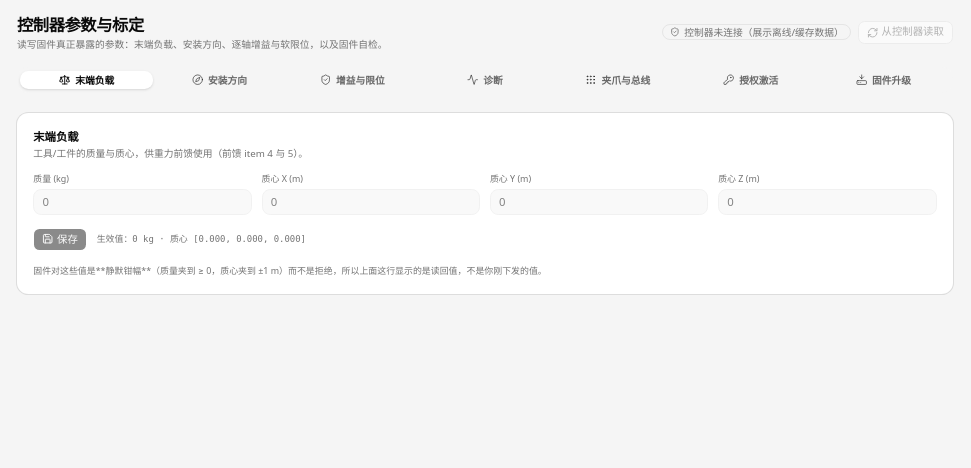
Test: SettingsPage axis scaling › says nothing has been read yet while disconnected
Press the mouse on the tab "增益与限位" at (352, 80), box x1=286 y1=71 x2=419 y2=90
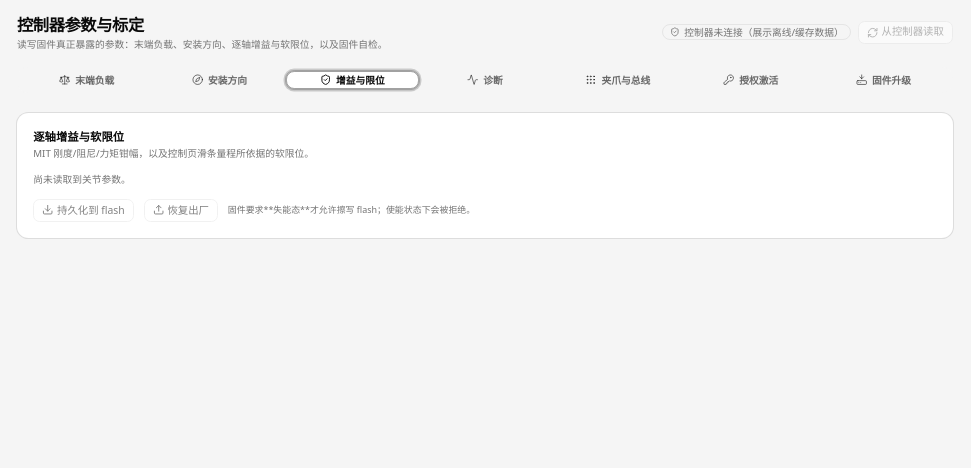
Expected: the text "尚未读取到关节参数。" is shown, x1=33 y1=173 x2=131 y2=186
Press the mouse on the tab "安装方向" at (219, 80), box x1=153 y1=71 x2=286 y2=90
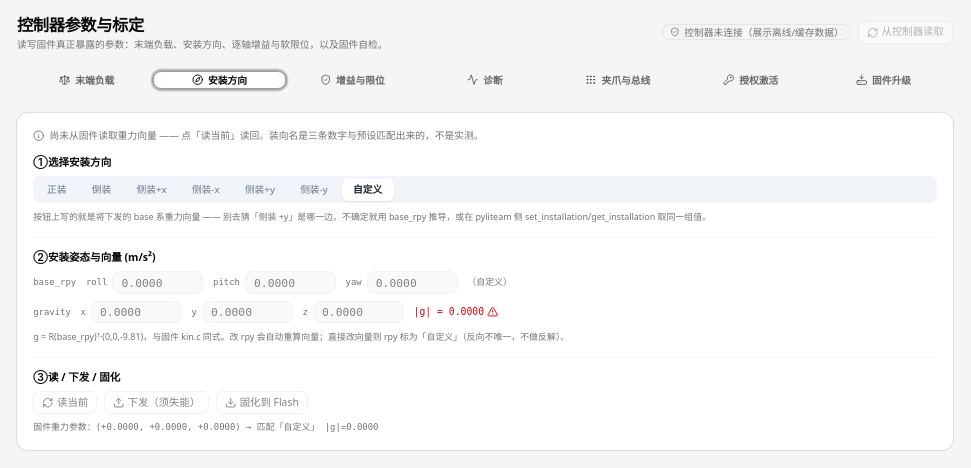
Expected: the text "尚未从固件读取重力向量 —— 点「读当前」读回。装向名是三条数字与预设匹配出来的，不是实测。" is shown, x1=33 y1=129 x2=484 y2=142
